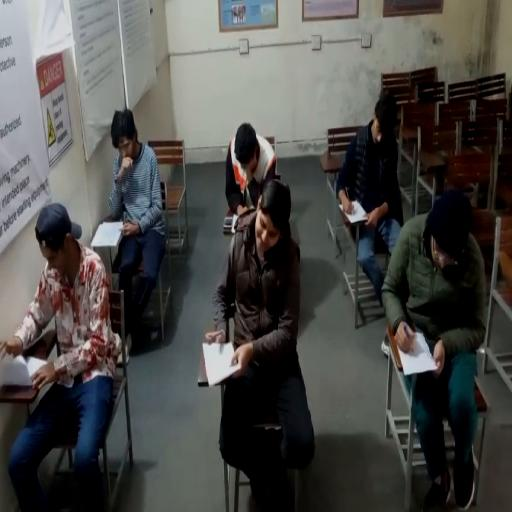paper: (396, 329, 437, 376), (0, 352, 50, 390), (202, 339, 241, 387), (91, 220, 125, 247), (340, 198, 369, 224), (231, 216, 239, 234)
